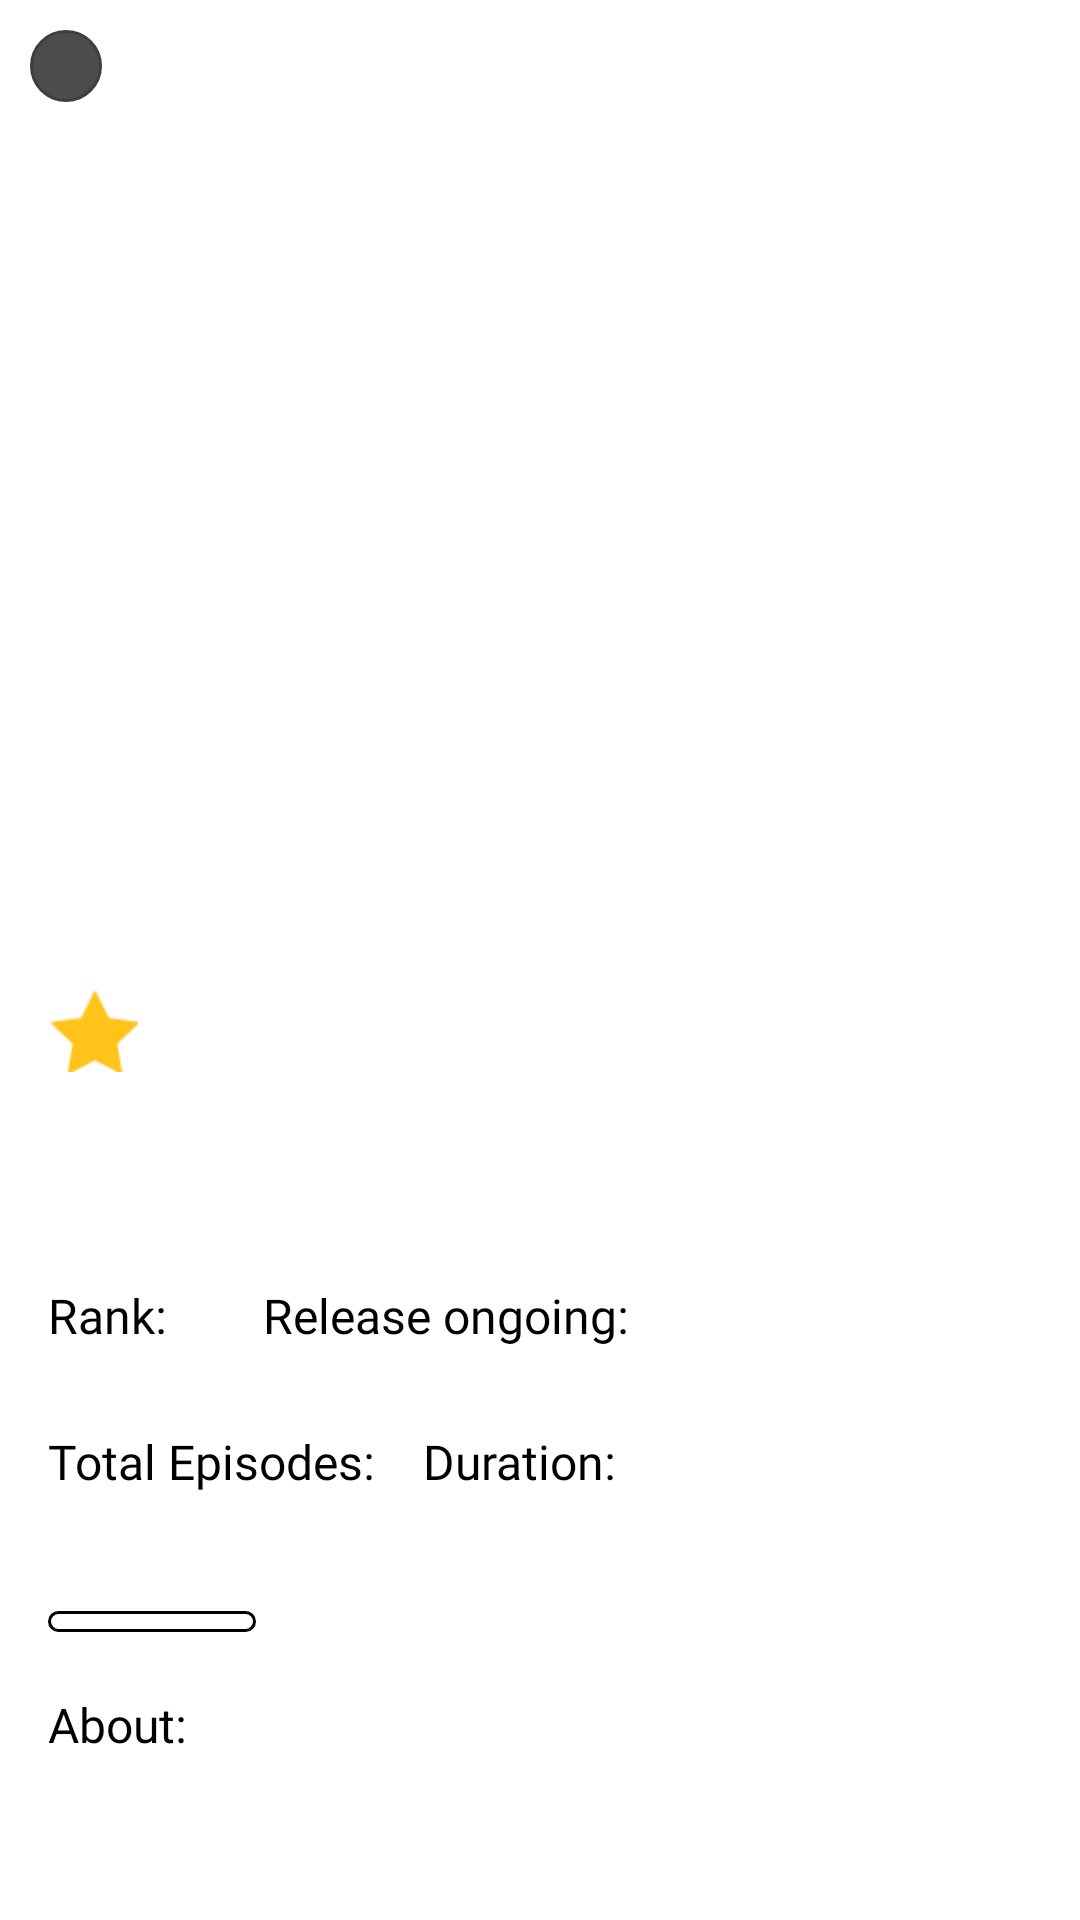

Locate icon controls on the screen. Image size 1080*1920, boxes as (x1, y1, x2, y2).
star: (50, 990, 138, 1072)
